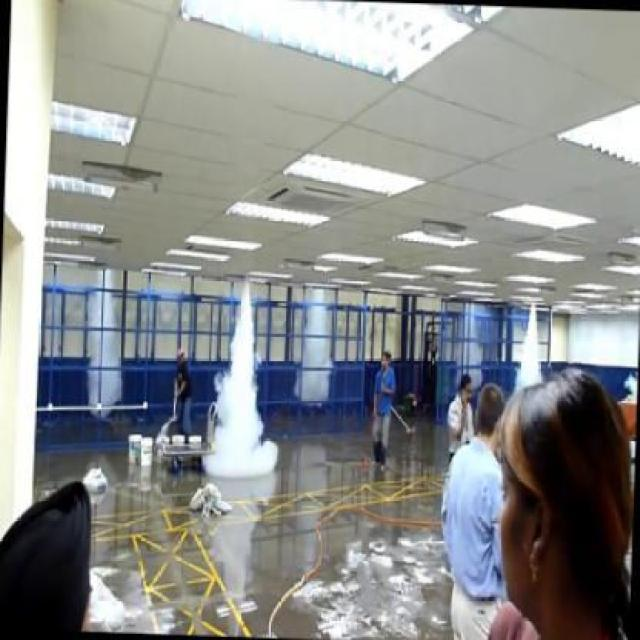fire: (198, 286, 282, 480), (510, 313, 544, 389)
